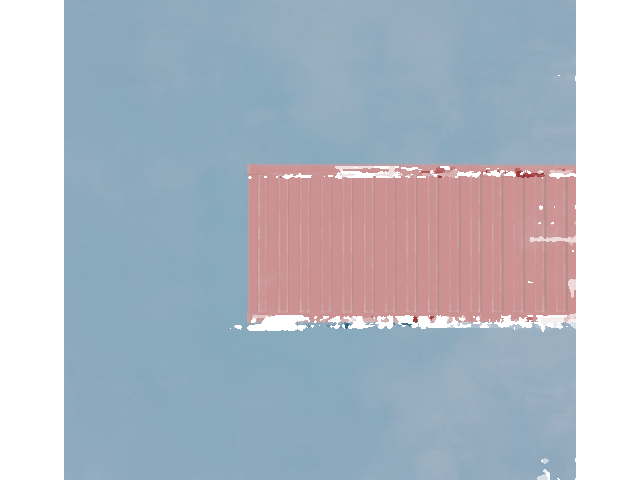container5: (249, 160, 640, 326)
